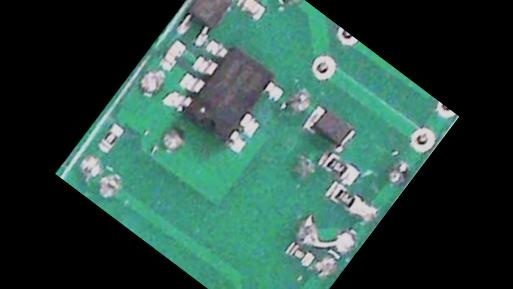chip-capacitor: (155, 35, 191, 74), (234, 0, 269, 24)
chip-resistor: (315, 147, 360, 188), (323, 179, 365, 217), (93, 117, 127, 155), (283, 238, 317, 270)
diode: (298, 99, 360, 157)
ic: (161, 30, 292, 160), (170, 0, 245, 50)
